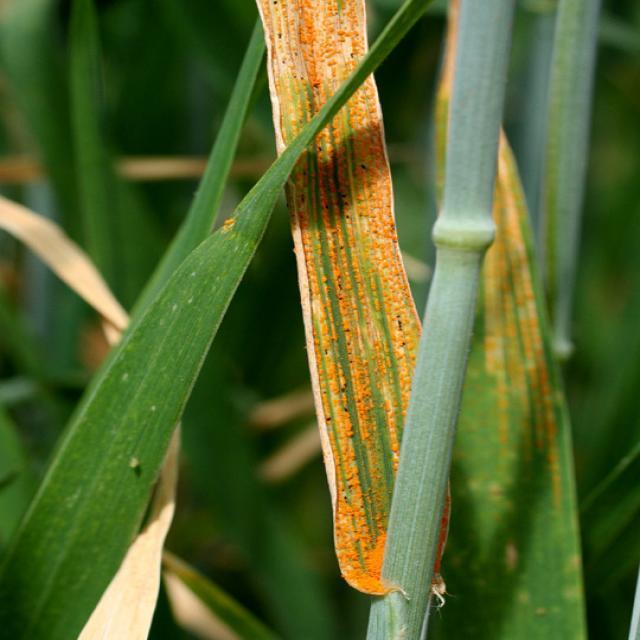Yellow_Rust: (433, 137, 587, 639), (287, 76, 420, 595), (256, 0, 365, 147)
